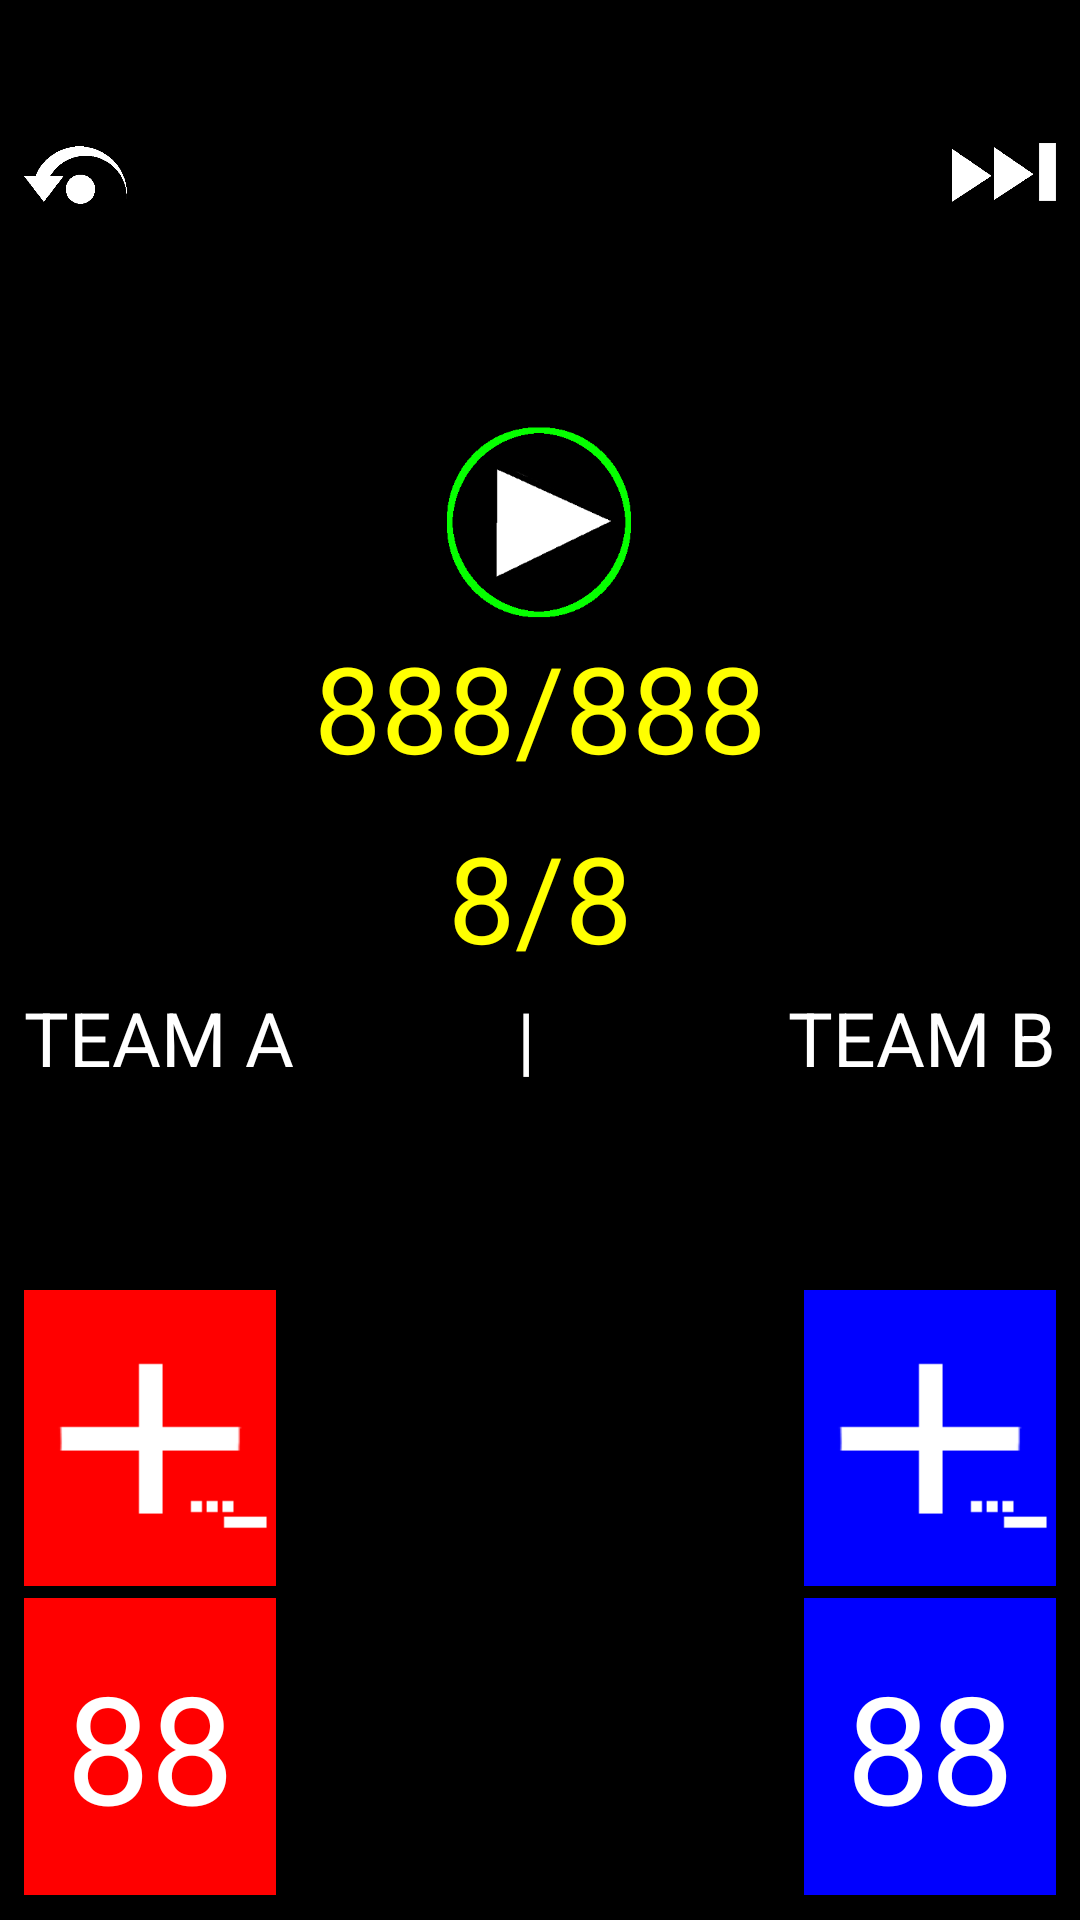

Icon bounding boxes for this 1080x1920 phone screenshot, format (x1, y1, x2, y2):
fastforward: (952, 143, 1056, 202)
play: (447, 427, 631, 617)
rollback: (24, 146, 127, 204)
scoreplus: (24, 1290, 276, 1586), (804, 1290, 1056, 1586)
